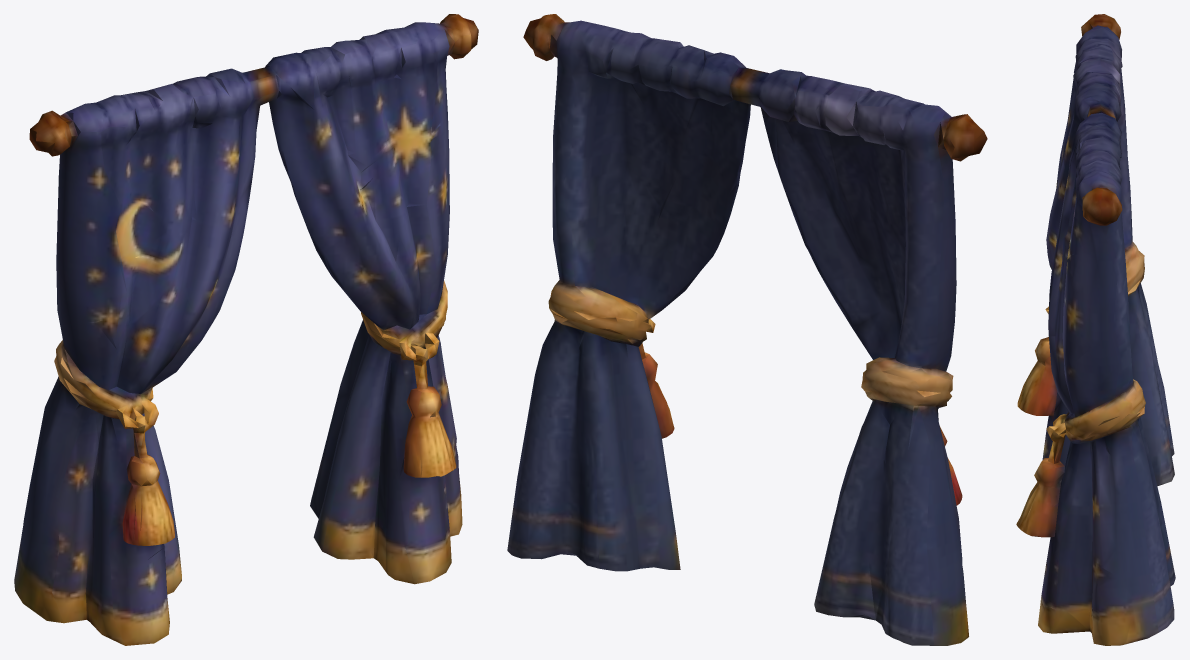
File: curtain02.glb
3 views of the same model, side by side, from view 1: azimuth 30°, elevation 25°; view 2: azimuth 150°, elevation 25°; view 3: azimuth 270°, elevation 25° (orthographic). The views are drawn at different scales.
Size of the model in its own units: 0.2398 by 0.2705 by 0.0841.
Materials: 1 (1 with a texture image).
